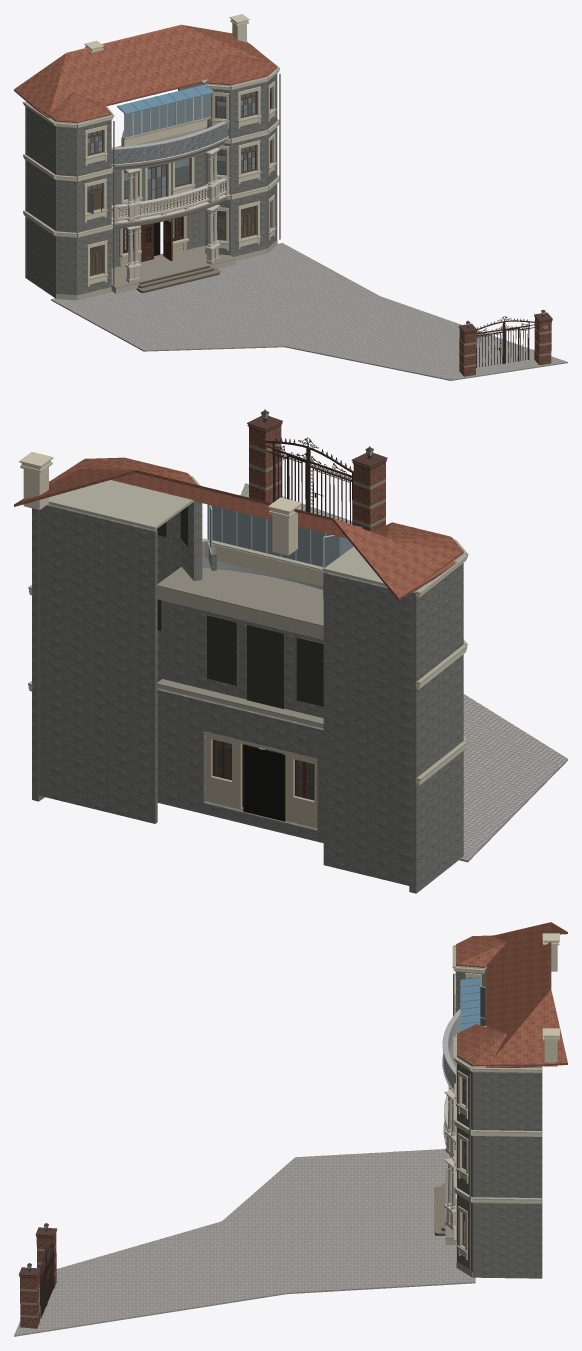
Rendered from jingan-liulin-villa-no51-garden-front-lod.glb.
3 views of the same model, one above another, from view 1: azimuth 30°, elevation 25°; view 2: azimuth 150°, elevation 25°; view 3: azimuth 270°, elevation 25° (orthographic). The views are drawn at different scales.
Visible parts, largest first — view 1: 柳林别墅51号双凸窗、弧廊与花园门; view 2: 柳林别墅51号双凸窗、弧廊与花园门; view 3: 柳林别墅51号双凸窗、弧廊与花园门.
Boxes of the visible parts, bbox=[...] form: 柳林别墅51号双凸窗、弧廊与花园门: bbox=[14, 14, 567, 380]; 柳林别墅51号双凸窗、弧廊与花园门: bbox=[14, 409, 567, 893]; 柳林别墅51号双凸窗、弧廊与花园门: bbox=[14, 922, 567, 1336].
Bounding box in the file's own units: 23.45 × 14.81 × 29.12.
43 materials, 7 textured.
